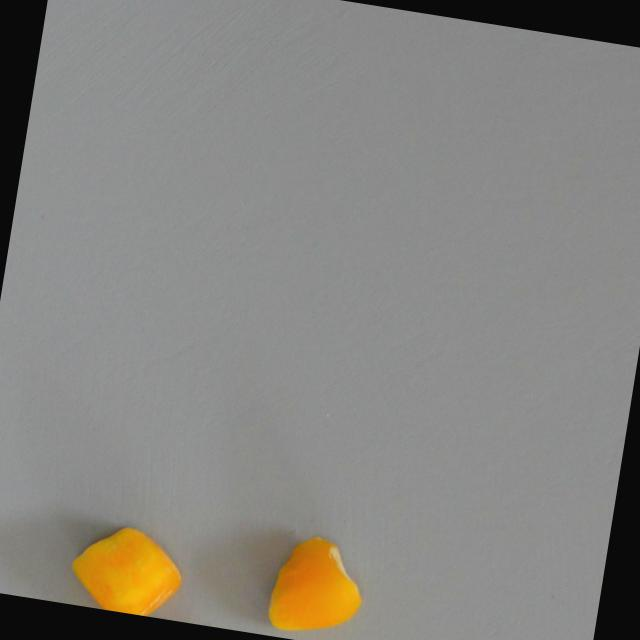dañado: (60, 514, 193, 622), (258, 526, 377, 640)
